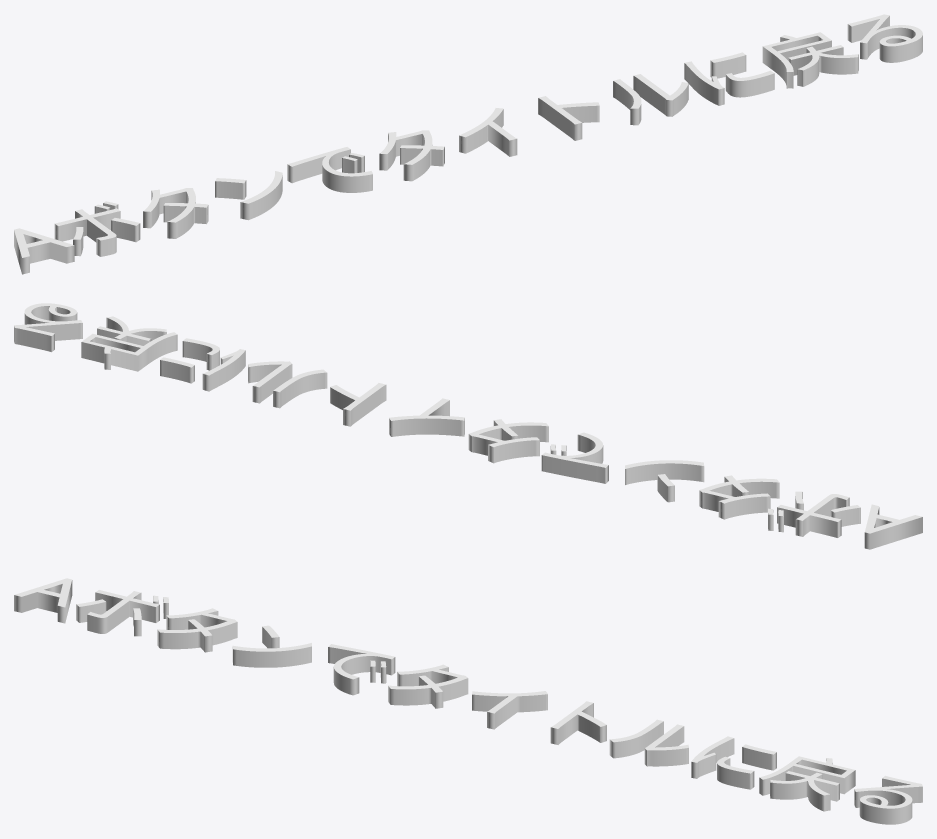
File: PressAToTitle.gltf
The picture shows the model from 3 angles, top to bottom: view 1: azimuth 30°, elevation 25°; view 2: azimuth 150°, elevation 25°; view 3: azimuth 330°, elevation 25°; orthographic projection. The views are drawn at different scales.
Parts seen in each view (by area): view 1: Xボタンで揺れの切り替え : ON; view 2: Xボタンで揺れの切り替え : ON; view 3: Xボタンで揺れの切り替え : ON.
Part boxes in pixels (<box>): Xボタンで揺れの切り替え : ON: <box>14,14,922,274</box>; Xボタンで揺れの切り替え : ON: <box>14,303,922,549</box>; Xボタンで揺れの切り替え : ON: <box>14,578,922,824</box>.
Size of the model in its own units: 11.52 by 0.2 by 0.907.
